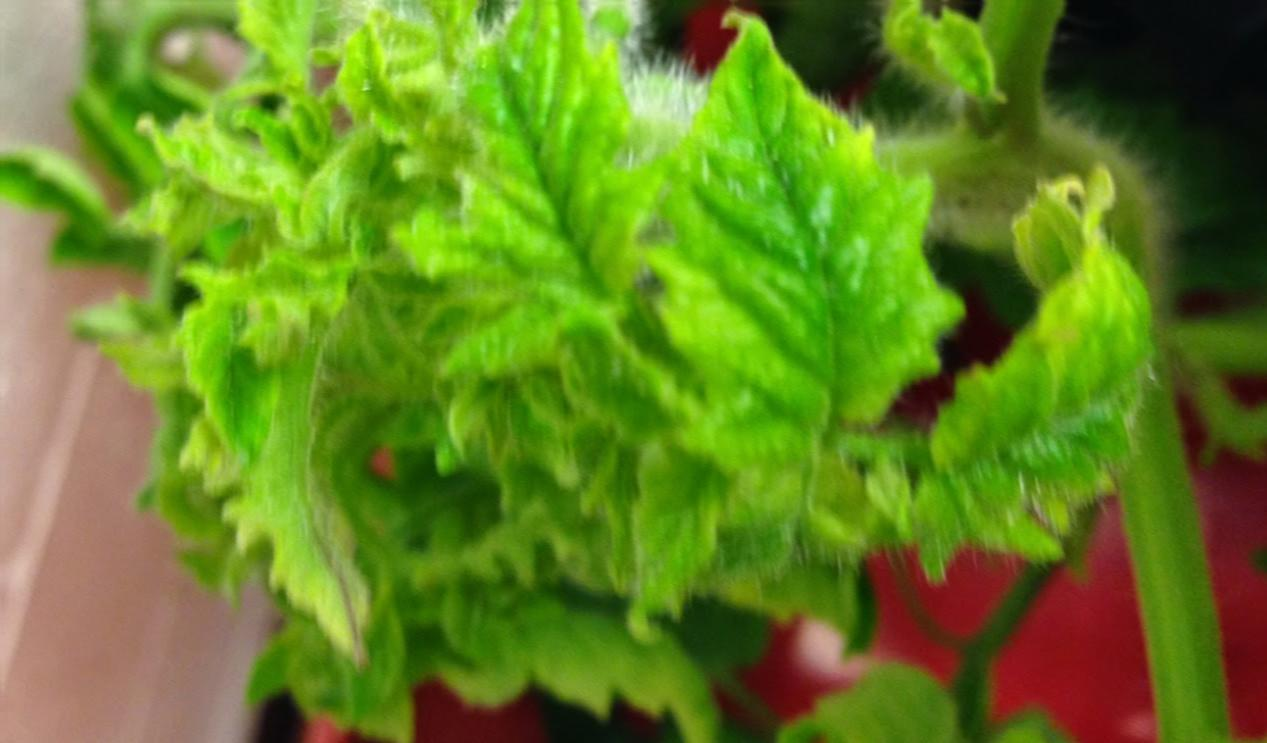Tomato leaf yellow virus: (675, 0, 973, 508), (926, 129, 1154, 573), (446, 0, 656, 404)
